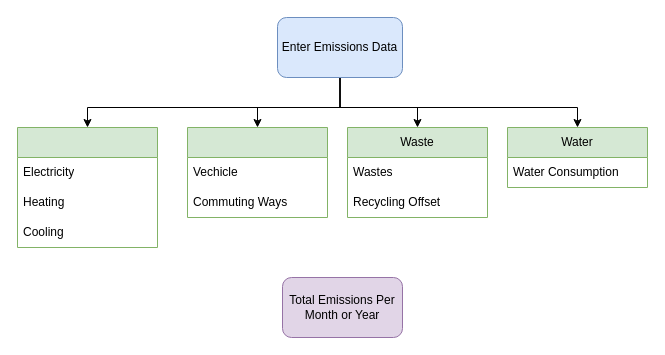
This 665x355 diagram has some shape labels left out. Each missing label, with the box of its shape:
Energy: (16, 126, 158, 248)
Transportation: (186, 126, 328, 218)
